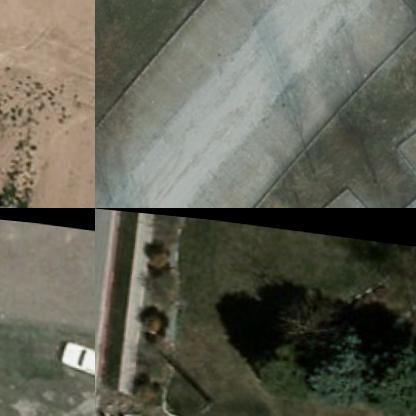car: (57, 333, 94, 381)
